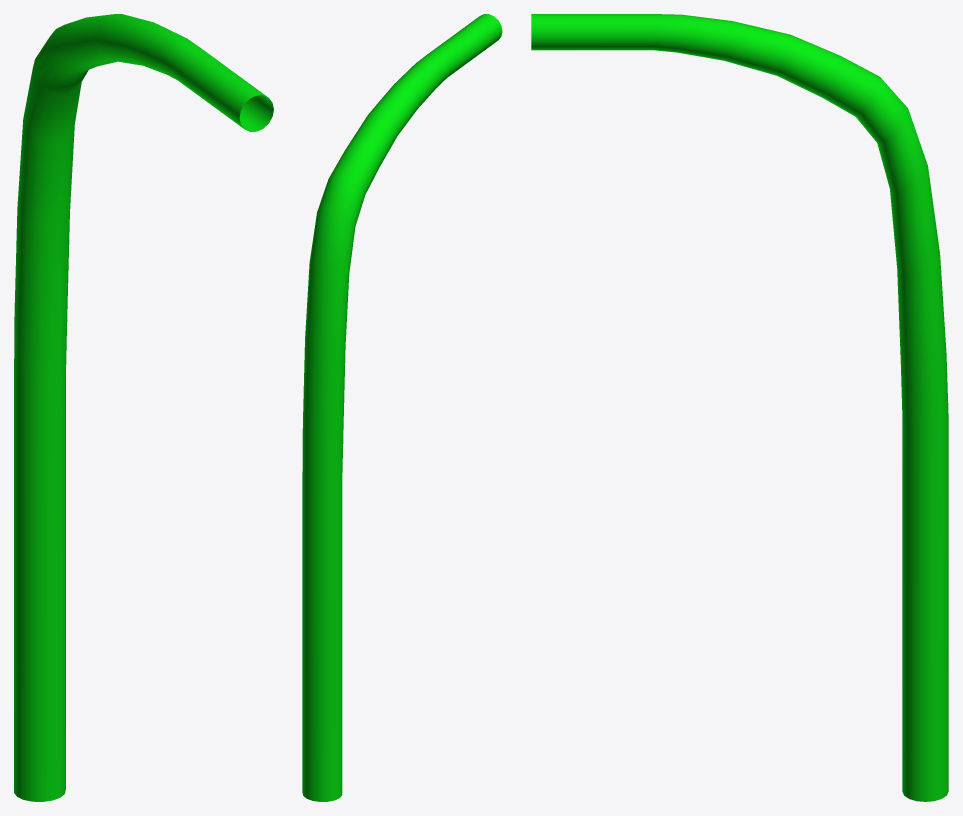
File: Pillar_part_4_lantern.fbx
3 views of the same model, side by side, from view 1: azimuth 30°, elevation 25°; view 2: azimuth 150°, elevation 25°; view 3: azimuth 270°, elevation 25° (orthographic). The views are drawn at different scales.
Visible parts, largest first — view 1: Pillar_part_4_lantern; view 2: Pillar_part_4_lantern; view 3: Pillar_part_4_lantern.
Boxes of the visible parts, box(x1,y1,x2,y2) form: Pillar_part_4_lantern: box(14, 14, 273, 801); Pillar_part_4_lantern: box(302, 14, 502, 801); Pillar_part_4_lantern: box(531, 14, 948, 801).
Bounding box in the file's own units: 6.81 × 118 × 57.33.
